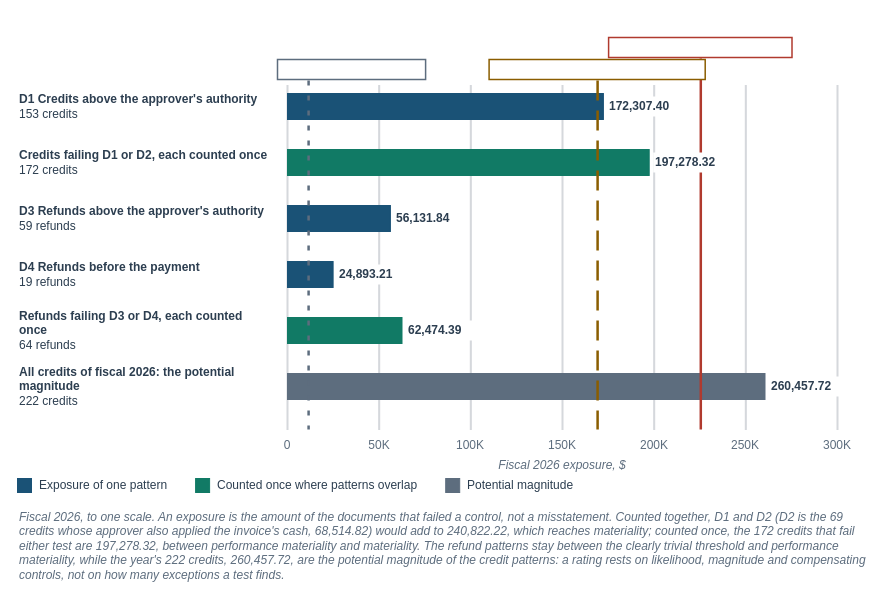
The diagram is 895 pixels wide and 605 high, and some of its shapes have lost their labels. Each missing label, with the centre of its shape:
Clearly trivial 11,259.03: the point at 351,69
Overall materiality 225,180.56: the point at 699,47
Performance materiality 168,885.42: the point at 597,69
